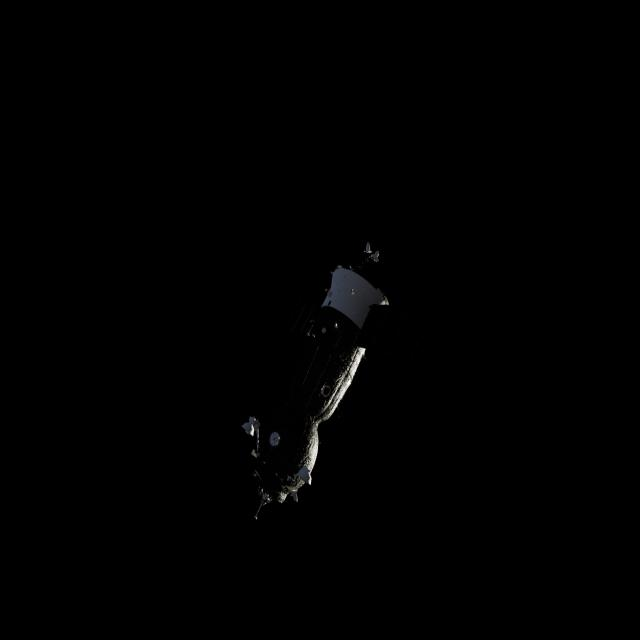Satellites revolving around earth: (239, 239, 392, 522)
